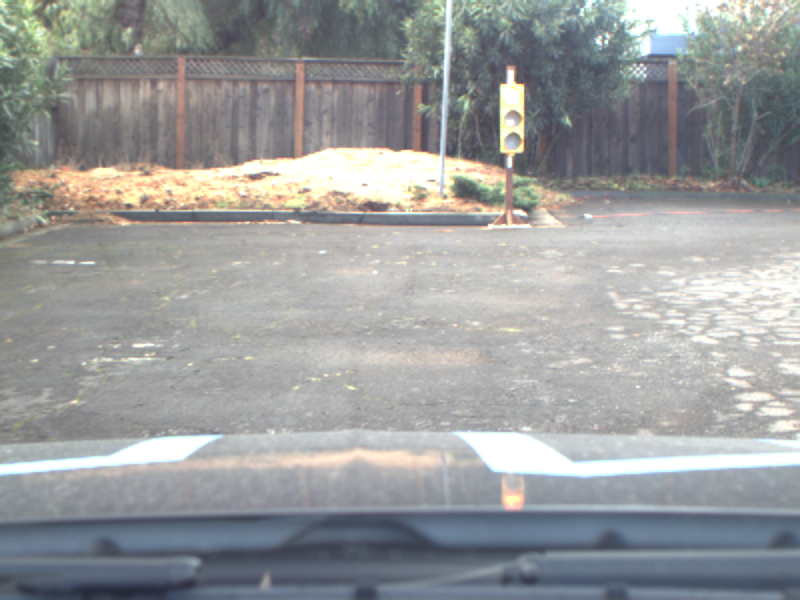Red: (499, 84, 524, 153)
